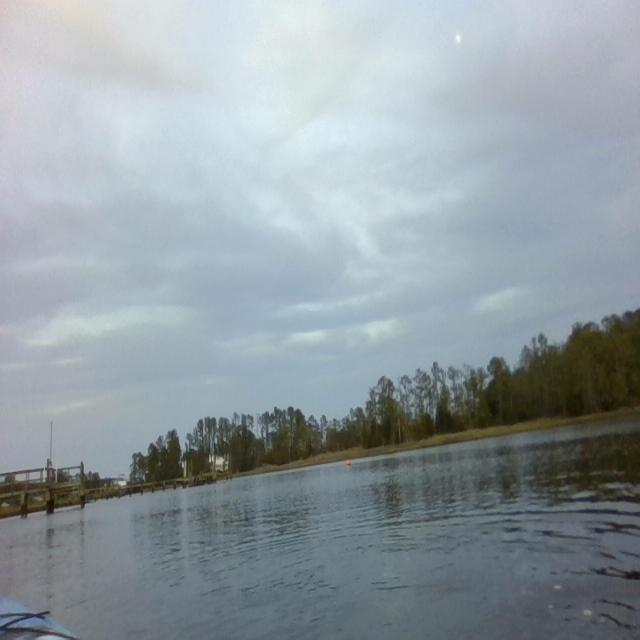Buoy: (346, 455, 353, 471)
